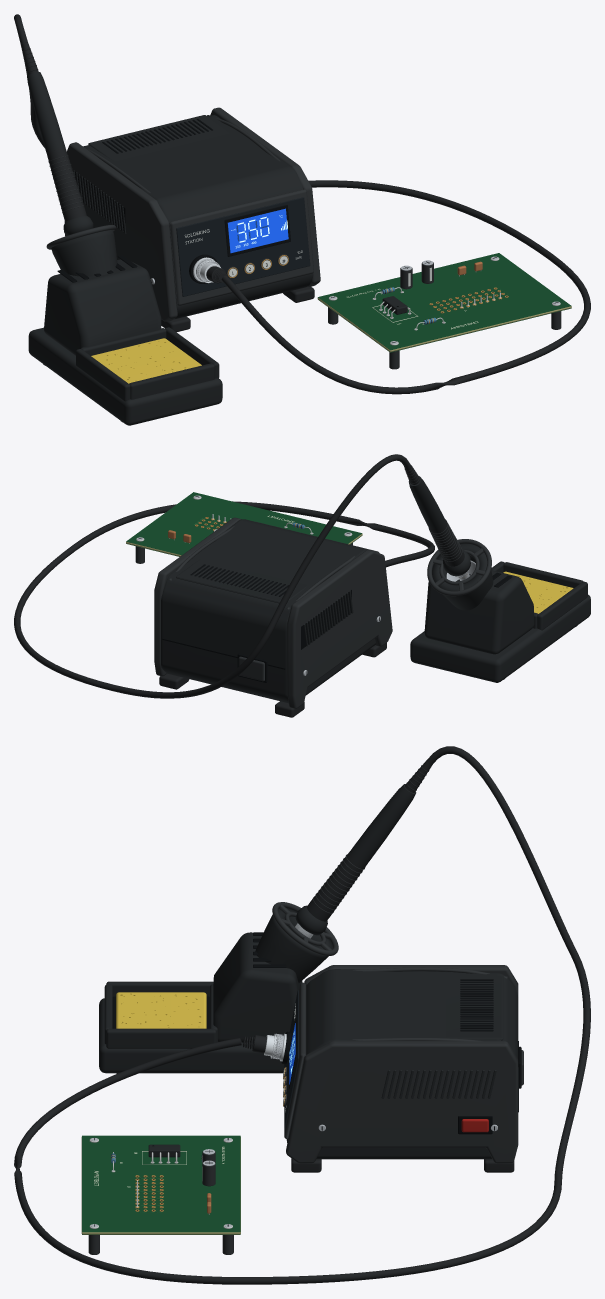
File: soldering-station.glb
3 renders of one model, top to bottom at view 1: azimuth 30°, elevation 25°; view 2: azimuth 150°, elevation 25°; view 3: azimuth 270°, elevation 25°, orthographic. The views are drawn at different scales.
Visible parts, largest first — view 1: Station and board — Black moulded enclosure, Station and board — Graphite edges, Station and board — Deep green solder mask, Flexible iron lead, Station and board — Glossy black control fascia, Station and board — Recesses and socket interiors, Station and board — Cellulose cleaning sponge, Iron — Black moulded enclosure, Iron — Soft black silicone, Station and board — Blue LCD backlight, Station and board — Soft black silicone, Station and board — Fibreglass board edge (+1 smaller); view 2: Station and board — Black moulded enclosure, Station and board — Graphite edges, Flexible iron lead, Station and board — Deep green solder mask, Station and board — Recesses and socket interiors, Iron — Black moulded enclosure, Iron — Soft black silicone, Station and board — Cellulose cleaning sponge, Station and board — Soft black silicone, Iron — Graphite edges; view 3: Station and board — Black moulded enclosure, Station and board — Graphite edges, Station and board — Deep green solder mask, Flexible iron lead, Station and board — Cellulose cleaning sponge, Station and board — Recesses and socket interiors, Iron — Black moulded enclosure, Iron — Soft black silicone, Station and board — Soft black silicone, Station and board — Glossy black control fascia.
Boxes of the visible parts, left/top/right/bottom form: Station and board — Black moulded enclosure: left=28, top=115, right=431, bottom=425; Station and board — Graphite edges: left=46, top=107, right=561, bottom=369; Station and board — Deep green solder mask: left=318, top=253, right=571, bottom=352; Flexible iron lead: left=14, top=14, right=590, bottom=394; Station and board — Glossy black control fascia: left=176, top=197, right=310, bottom=296; Station and board — Recesses and socket interiors: left=57, top=119, right=558, bottom=342; Station and board — Cellulose cleaning sponge: left=91, top=338, right=201, bottom=383; Iron — Black moulded enclosure: left=27, top=72, right=93, bottom=235; Iron — Soft black silicone: left=21, top=42, right=86, bottom=221; Station and board — Blue LCD backlight: left=227, top=208, right=288, bottom=253; Station and board — Soft black silicone: left=43, top=266, right=314, bottom=422; Station and board — Fibreglass board edge: left=317, top=298, right=571, bottom=352; Station and board — Black moulded enclosure: left=161, top=519, right=590, bottom=703; Station and board — Graphite edges: left=135, top=517, right=491, bottom=708; Flexible iron lead: left=14, top=454, right=434, bottom=698; Station and board — Deep green solder mask: left=126, top=492, right=362, bottom=556; Station and board — Recesses and socket interiors: left=138, top=496, right=512, bottom=682; Iron — Black moulded enclosure: left=408, top=475, right=470, bottom=576; Iron — Soft black silicone: left=404, top=463, right=464, bottom=566; Station and board — Cellulose cleaning sponge: left=503, top=571, right=573, bottom=613; Station and board — Soft black silicone: left=159, top=625, right=577, bottom=717; Iron — Graphite edges: left=428, top=519, right=462, bottom=561; Station and board — Black moulded enclosure: left=99, top=908, right=518, bottom=1159; Station and board — Graphite edges: left=88, top=902, right=523, bottom=1254; Station and board — Deep green solder mask: left=82, top=1135, right=240, bottom=1234; Flexible iron lead: left=14, top=746, right=590, bottom=1284; Station and board — Cellulose cleaning sponge: left=116, top=992, right=206, bottom=1028; Station and board — Recesses and socket interiors: left=94, top=932, right=521, bottom=1226; Iron — Black moulded enclosure: left=295, top=784, right=416, bottom=935; Iron — Soft black silicone: left=307, top=760, right=432, bottom=921; Station and board — Soft black silicone: left=116, top=1035, right=514, bottom=1172; Station and board — Glossy black control fascia: left=283, top=990, right=298, bottom=1127.
Size of the model in its own units: 0.3899 by 0.2136 by 0.3619.
